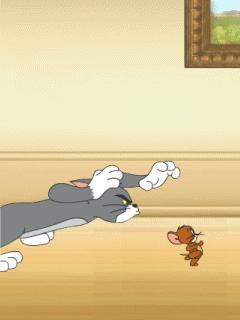jerry: (167, 224, 206, 268)
